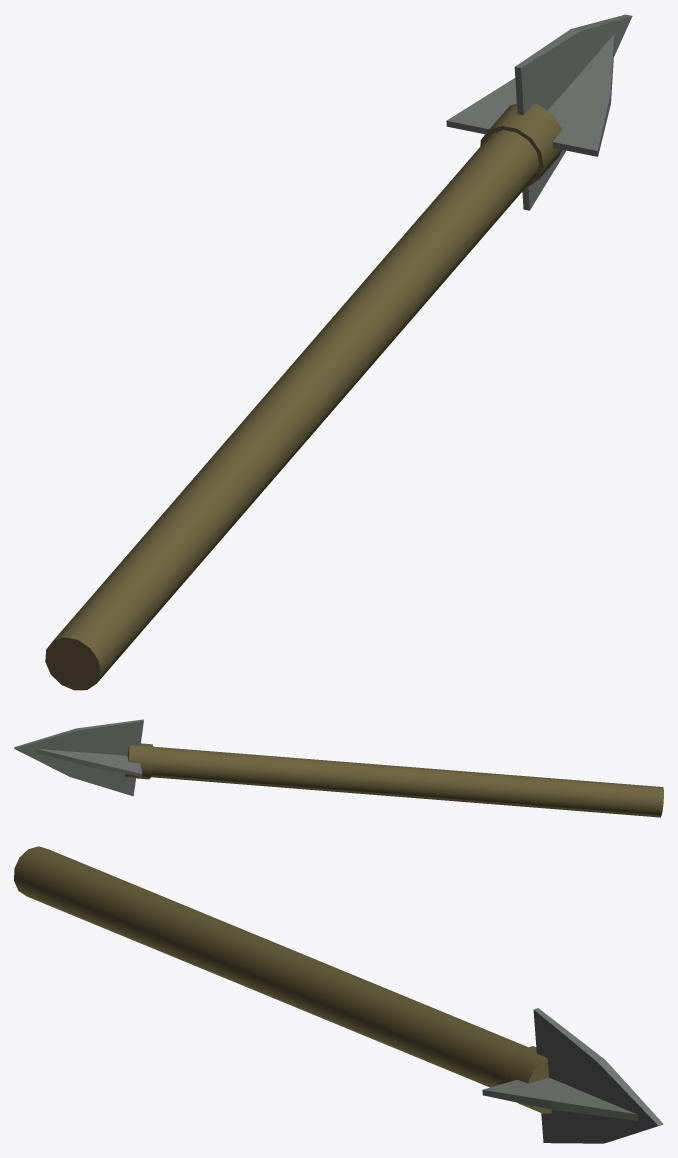
File: flecha-ballesta-a.fbx
The picture shows the model from 3 angles, top to bottom: view 1: azimuth 30°, elevation 25°; view 2: azimuth 150°, elevation 25°; view 3: azimuth 270°, elevation 25°; orthographic projection. The views are drawn at different scales.
Parts seen in each view (by area): view 1: flecha_balles3, flecha_balles2, flecha_balles1; view 2: flecha_balles3, flecha_balles1, flecha_balles2; view 3: flecha_balles3, flecha_balles1, flecha_balles2.
Boxes of the visible parts, x1,y1,x2,y2 form: flecha_balles3: (45,103,562,690); flecha_balles2: (446,34,614,156); flecha_balles1: (514,14,632,210); flecha_balles3: (125,743,663,817); flecha_balles1: (14,719,143,796); flecha_balles2: (35,749,142,776); flecha_balles3: (14,846,551,1113); flecha_balles1: (533,1008,663,1143); flecha_balles2: (482,1078,638,1120).
Size of the model in its own units: 23.74 by 5.47 by 16.73.
